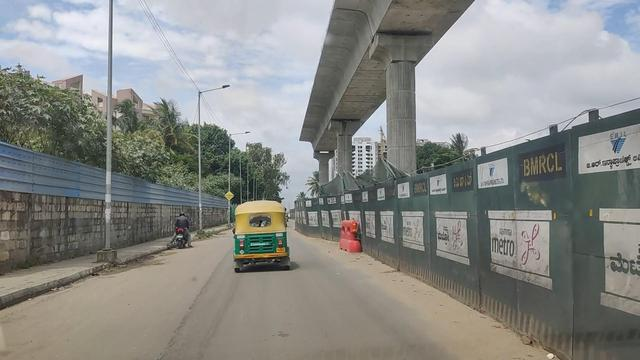LMV: (224, 197, 291, 279), (167, 205, 194, 250)
